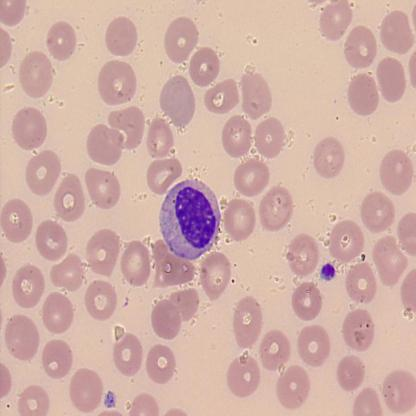Myelocyte: (158, 180, 224, 258)
